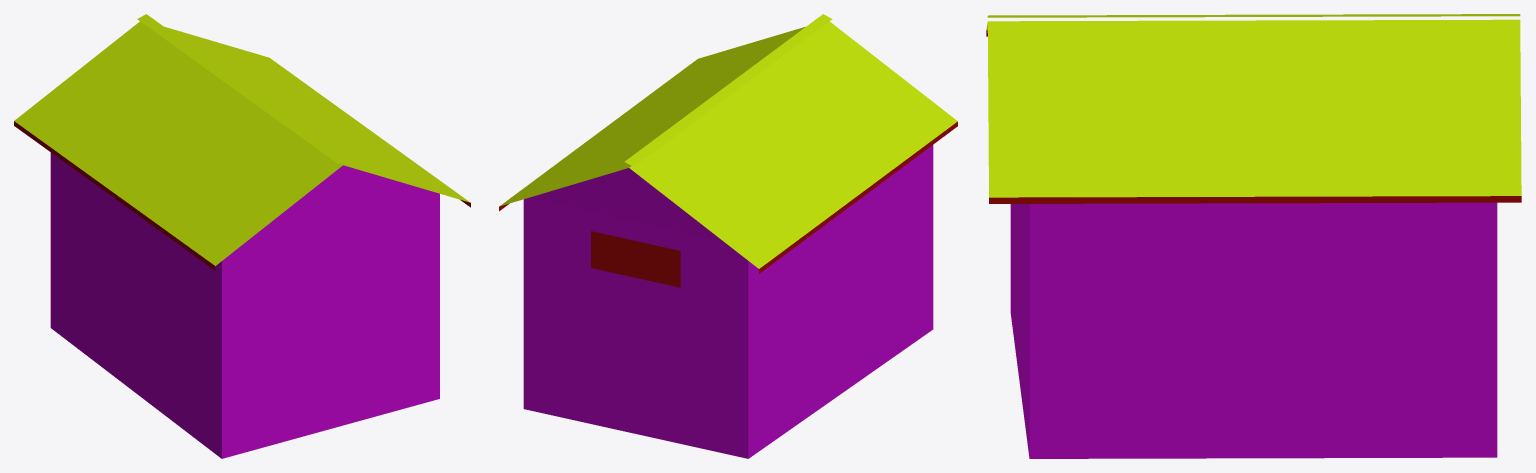
File: scl_130.glb
3 views of the same model, side by side, from view 1: azimuth 30°, elevation 25°; view 2: azimuth 150°, elevation 25°; view 3: azimuth 270°, elevation 25° (orthographic). The views are drawn at different scales.
Parts seen in each view (by area): view 1: scl_130; view 2: scl_130; view 3: scl_130.
Boxes of the visible parts, x1,y1,x2,y2 form: scl_130: [14, 14, 470, 458]; scl_130: [499, 14, 957, 458]; scl_130: [986, 14, 1521, 458].
Size of the model in its own units: 6.67 by 6.83 by 8.93.
